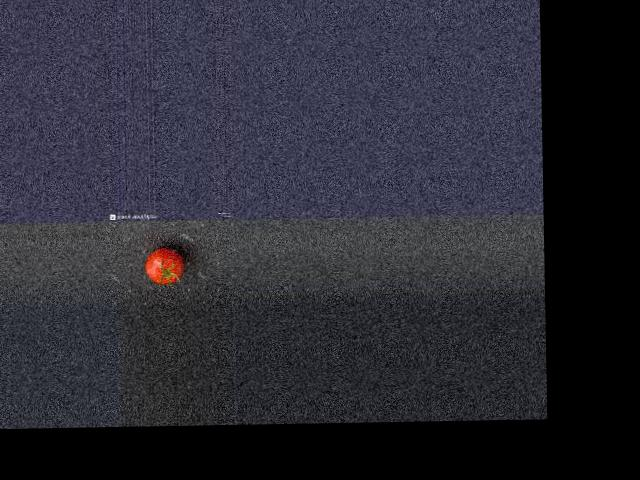tomato: (145, 248, 185, 284)
